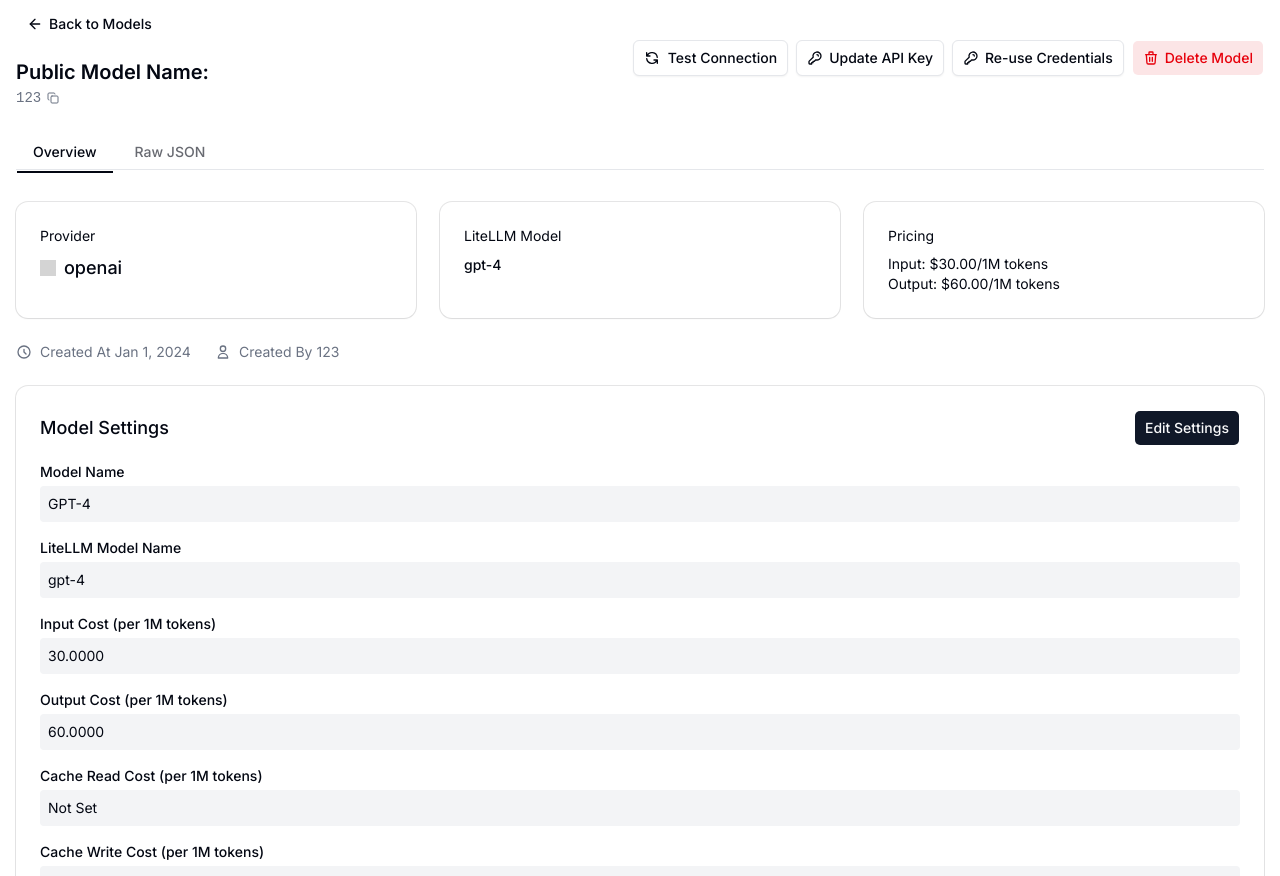
Scenario: ModelInfoView › should enter edit mode when edit settings button is clicked
Click the button "Edit Settings" at (1187, 428), box 1134,410 -> 1240,446
(page scrolled)
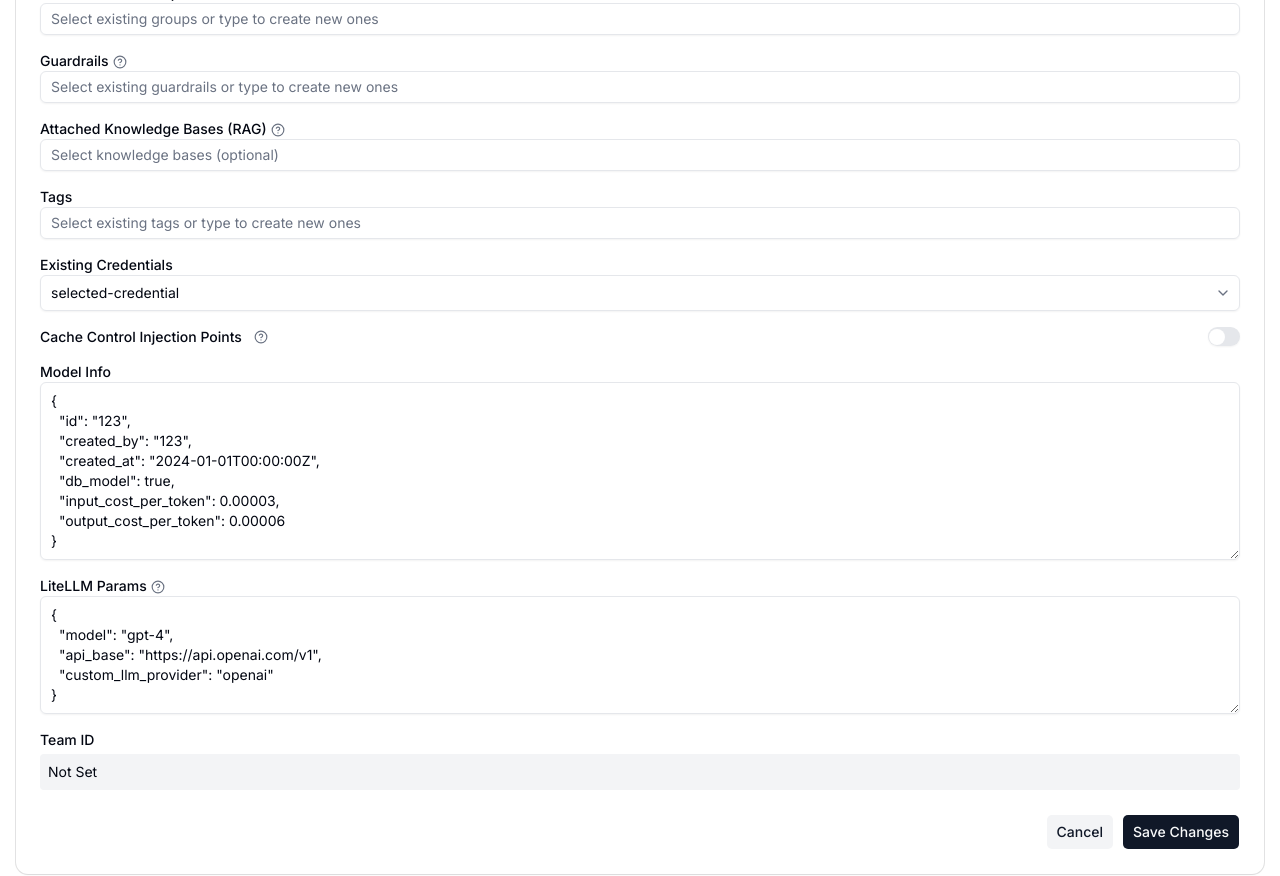
Result: the button "Save Changes" is shown at 1122,814 -> 1240,850
Result: the button "Cancel" is shown at 1046,814 -> 1114,850
